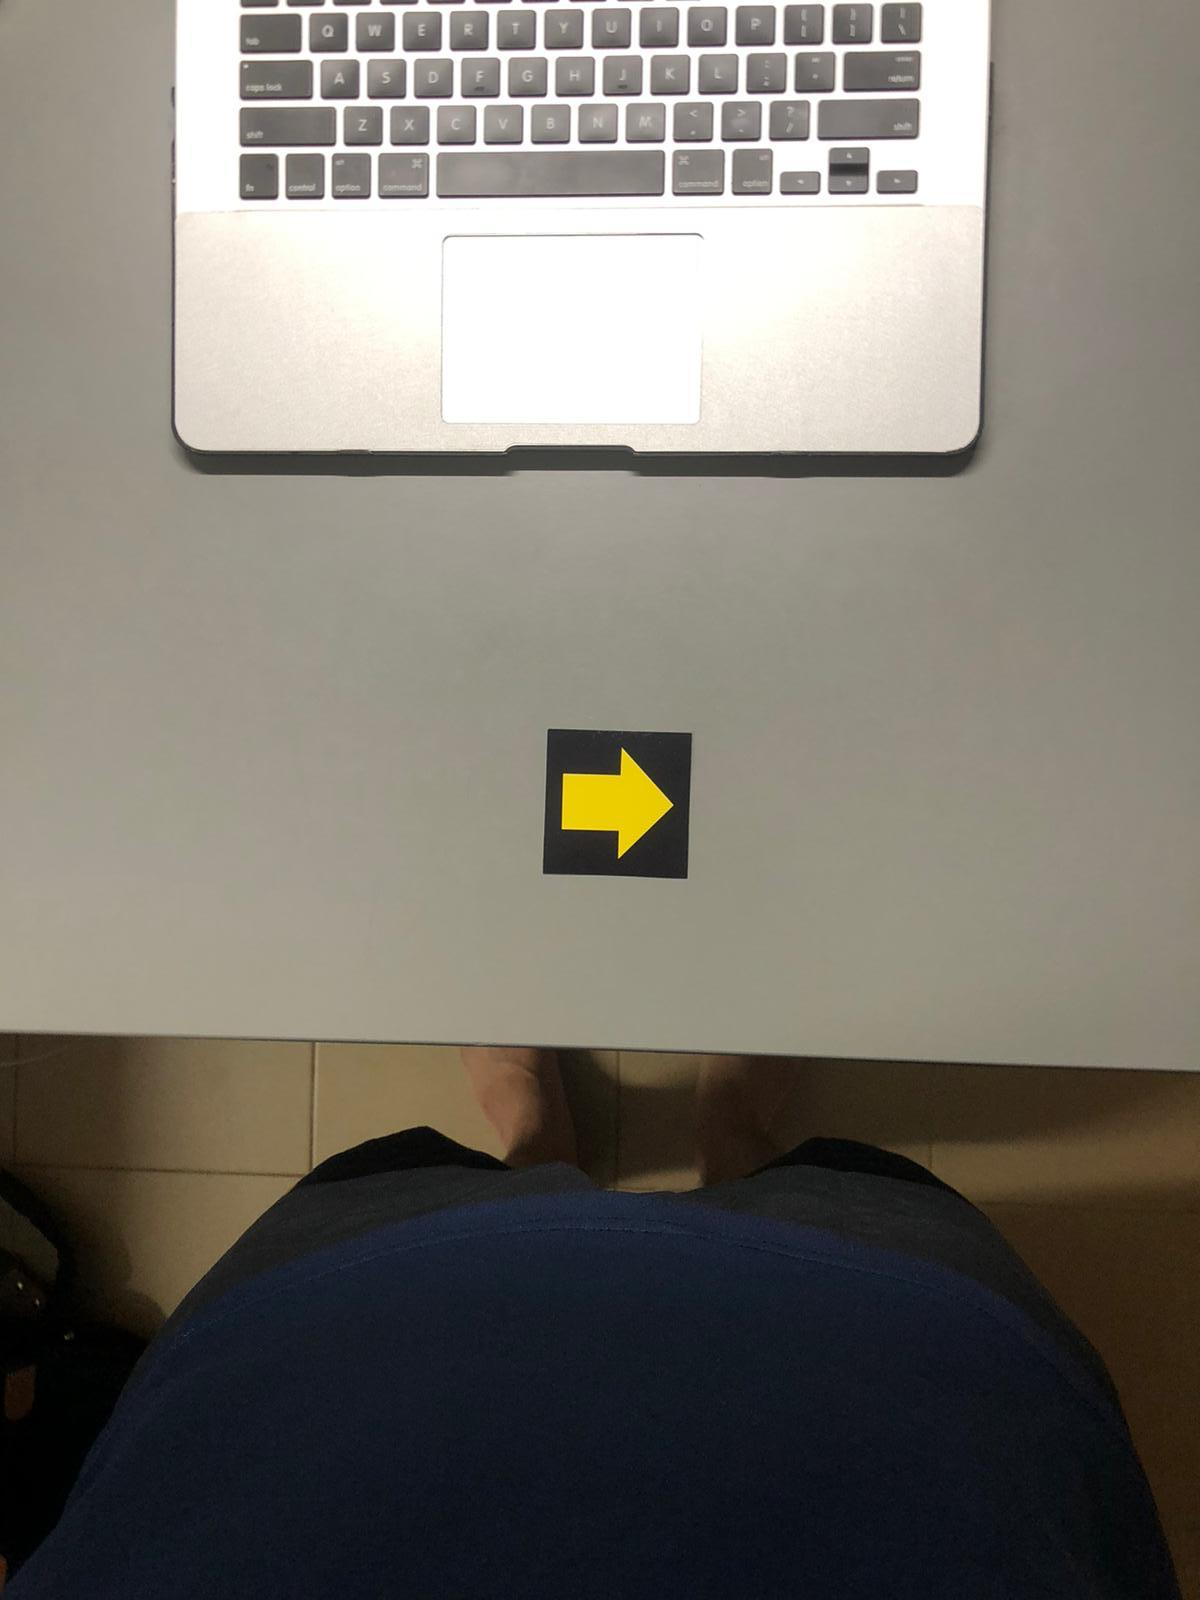Right Arrow: (542, 729, 691, 874)
